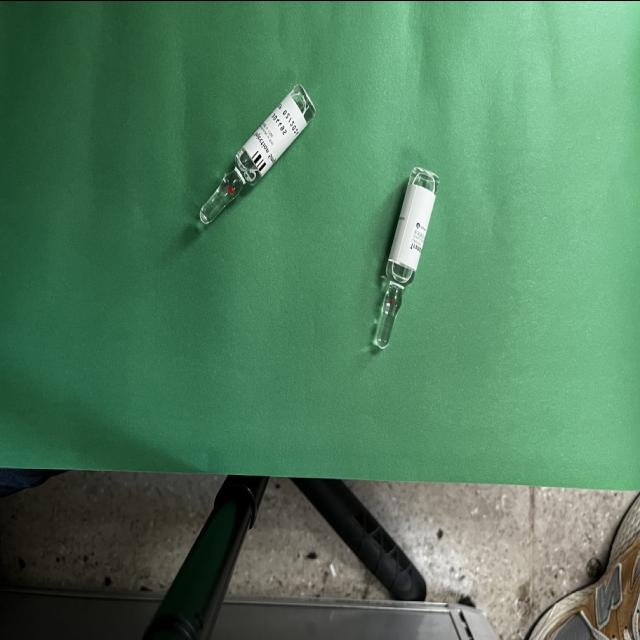Ampoules: (198, 83, 314, 223), (374, 165, 438, 348)
